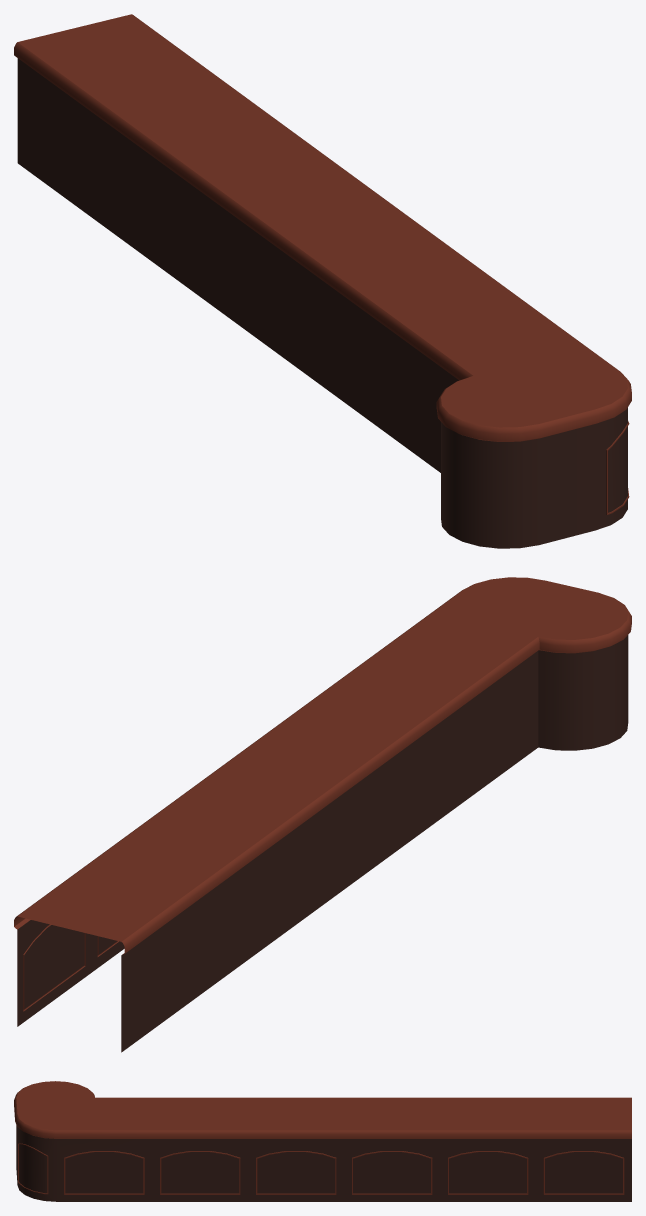
Rendered from bar.FBX.
The picture shows the model from 3 angles, top to bottom: view 1: azimuth 30°, elevation 25°; view 2: azimuth 150°, elevation 25°; view 3: azimuth 270°, elevation 25°; orthographic projection. The views are drawn at different scales.
Visible parts, largest first — view 1: Cylinder001; view 2: Cylinder001; view 3: Cylinder001.
Part boxes in pixels (x1=…): Cylinder001: x1=14, y1=14, x2=631, y2=548; Cylinder001: x1=14, y1=577, x2=631, y2=1052; Cylinder001: x1=14, y1=1081, x2=631, y2=1201.
Size of the model in its own units: 31.62 by 20.55 by 161.
1 material, 1 textured.
